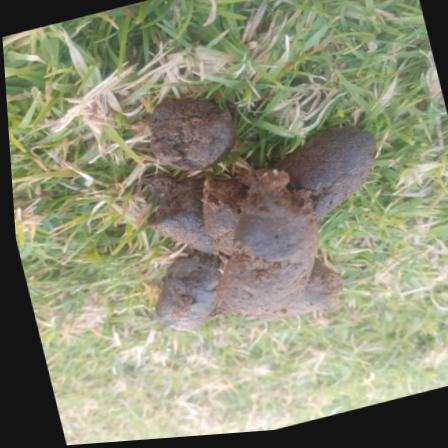dog-poop: (82, 46, 416, 383)
